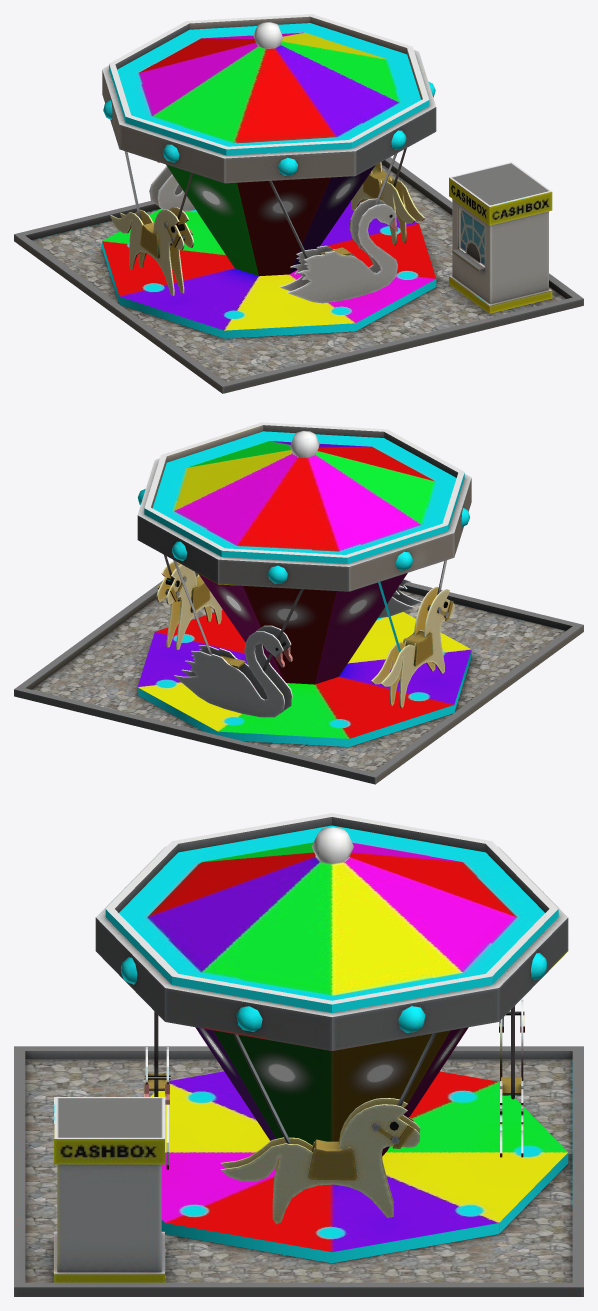
File: Carousel.glb
The picture shows the model from 3 angles, top to bottom: view 1: azimuth 30°, elevation 25°; view 2: azimuth 150°, elevation 25°; view 3: azimuth 270°, elevation 25°; orthographic projection. The views are drawn at different scales.
Parts seen in each view (by area): view 1: Line010; view 2: Line010; view 3: Line010.
Boxes of the visible parts, box(x1,y1,x2,y2) form: Line010: box(14, 14, 583, 393); Line010: box(14, 422, 583, 784); Line010: box(14, 813, 583, 1296).
Bounding box in the file's own units: 2.94 × 1.92 × 2.94.
1 material, 1 textured.
